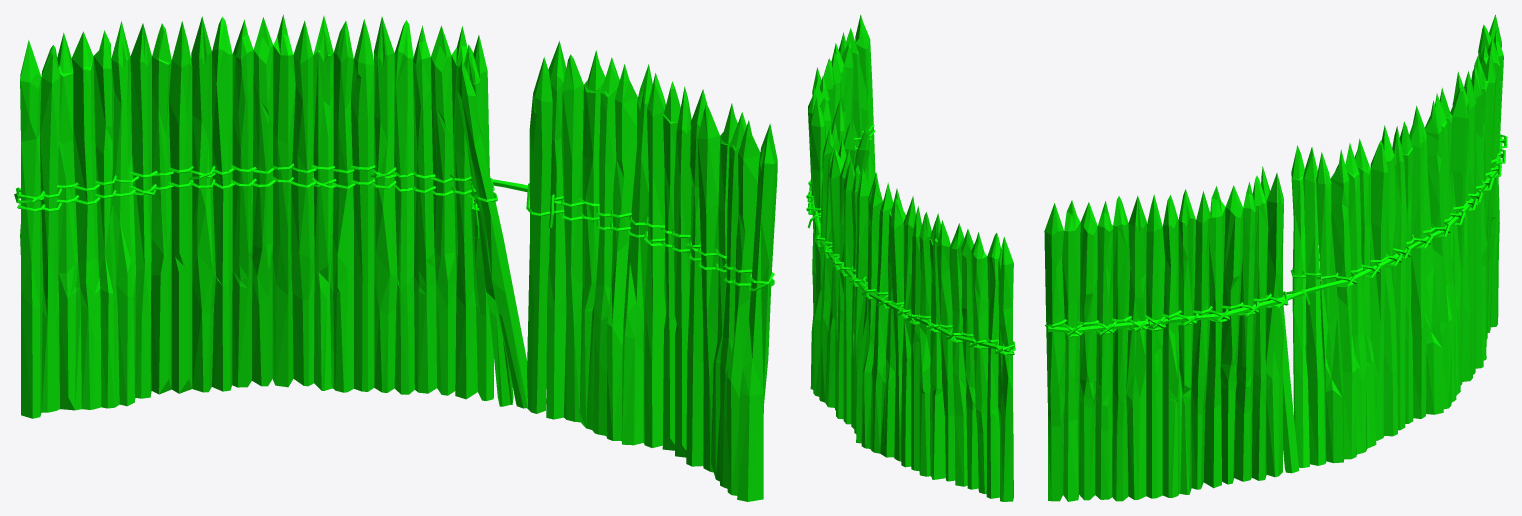
The model's file is SM_Palisade_Corner_Round_9x9_Concave_A_Broken.fbx.
The picture shows the model from 3 angles, left to right: view 1: azimuth 30°, elevation 25°; view 2: azimuth 150°, elevation 25°; view 3: azimuth 270°, elevation 25°; orthographic projection. The views are drawn at different scales.
Parts seen in each view (by area): view 1: palisade-corner-round-9x9-concave-a-broken; view 2: palisade-corner-round-9x9-concave-a-broken; view 3: palisade-corner-round-9x9-concave-a-broken.
Boxes of the visible parts, bbox=[...] form: palisade-corner-round-9x9-concave-a-broken: bbox=[14, 14, 777, 501]; palisade-corner-round-9x9-concave-a-broken: bbox=[806, 14, 1015, 501]; palisade-corner-round-9x9-concave-a-broken: bbox=[1044, 14, 1507, 501].
Bounding box in the file's own units: 9.44 × 6.87 × 9.39.
